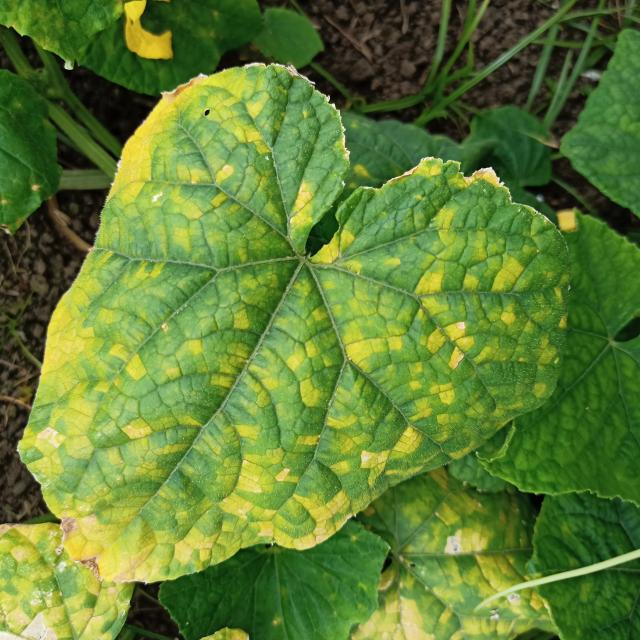disease_cucumber: (28, 61, 568, 575)
